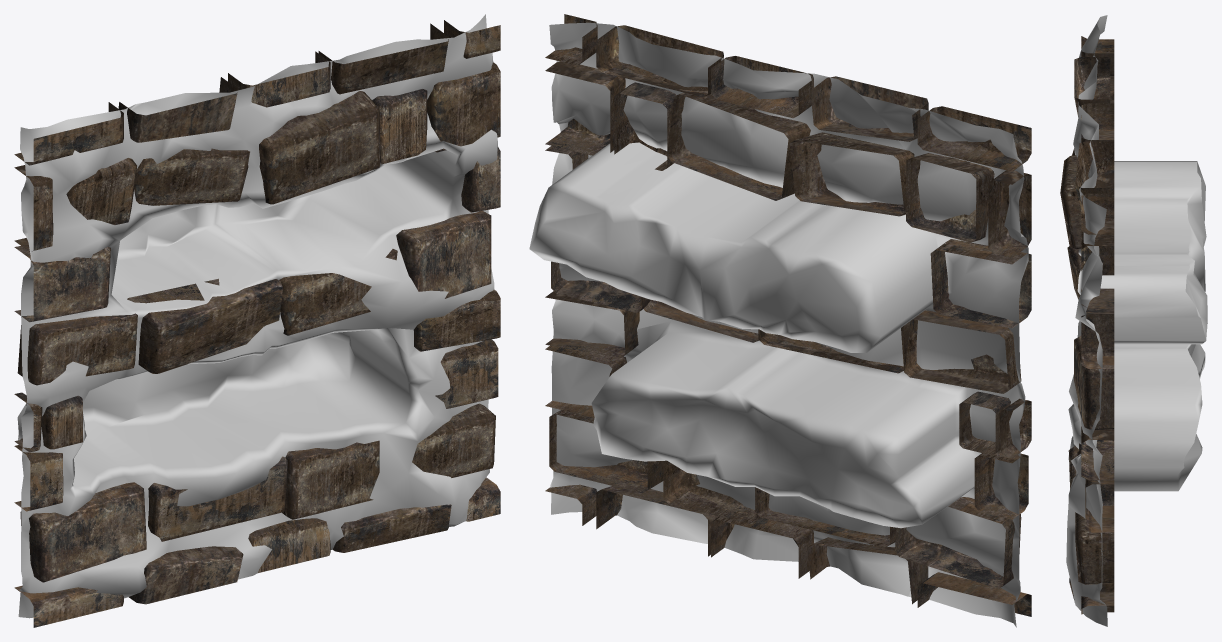
Rendered from taureg_grave_large.dae.
The picture shows the model from 3 angles, left to right: view 1: azimuth 30°, elevation 25°; view 2: azimuth 150°, elevation 25°; view 3: azimuth 270°, elevation 25°; orthographic projection. The views are drawn at different scales.
Parts seen in each view (by area): view 1: Mesh__2_, LO__2_; view 2: Mesh__2_, LO__2_; view 3: Mesh__2_, LO__2_.
Boxes of the visible parts, box(x1,y1,x2,y2) form: Mesh__2_: box(17, 14, 497, 618); LO__2_: box(14, 20, 500, 627); Mesh__2_: box(529, 22, 1028, 627); LO__2_: box(545, 14, 1031, 616); Mesh__2_: box(1066, 15, 1207, 626); LO__2_: box(1060, 36, 1114, 614).
Size of the model in its own units: 4 by 4 by 1.28.
